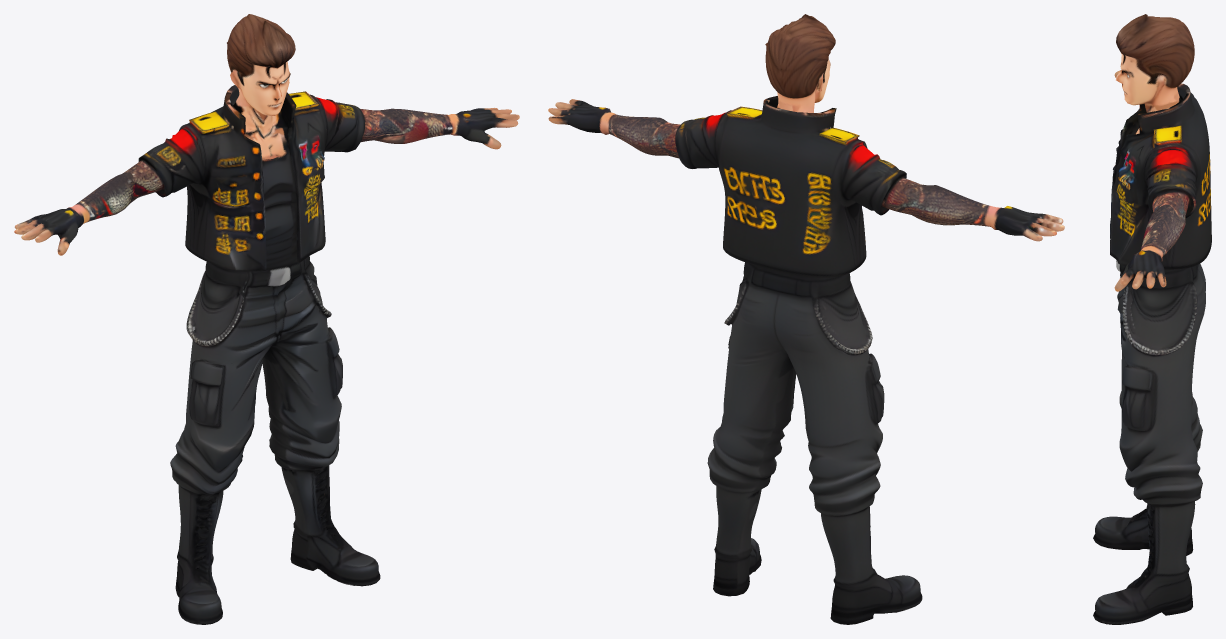
The model's file is base_basic_shaded.fbx.
The picture shows the model from 3 angles, left to right: view 1: azimuth 30°, elevation 25°; view 2: azimuth 150°, elevation 25°; view 3: azimuth 270°, elevation 25°; orthographic projection. The views are drawn at different scales.
Visible parts, largest first — view 1: model; view 2: model; view 3: model.
Boxes of the visible parts, box(x1,y1,x2,y2) form: model: box(14, 14, 519, 624); model: box(548, 14, 1064, 624); model: box(1093, 14, 1211, 624).
Bounding box in the file's own units: 160 × 173 × 33.11.
